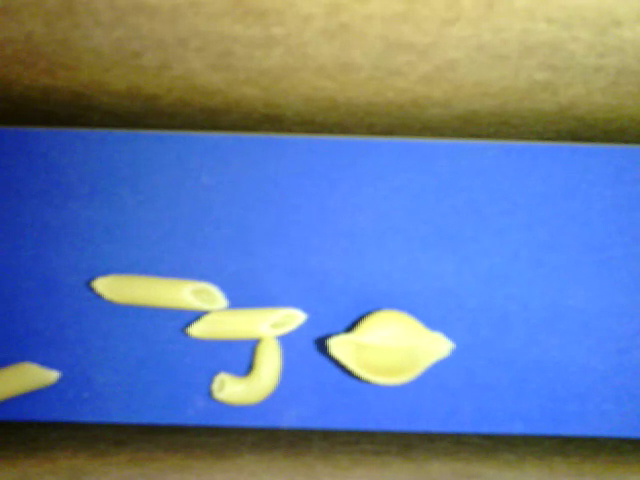elbow: (210, 336, 282, 408)
penne: (90, 271, 230, 311), (185, 306, 308, 339), (1, 361, 63, 400)
shell: (326, 307, 455, 386)
